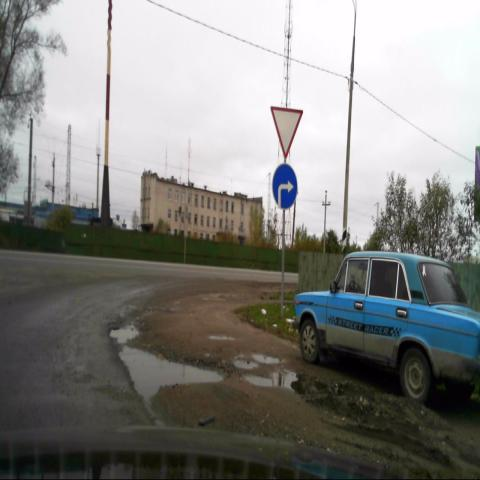4_1_2: (272, 164, 298, 208)
